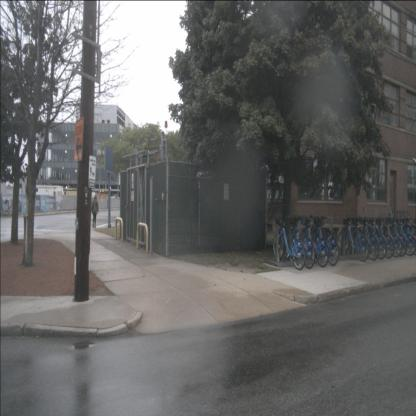human-pedestrian-adult: (91, 194, 99, 228), (7, 198, 11, 217)
